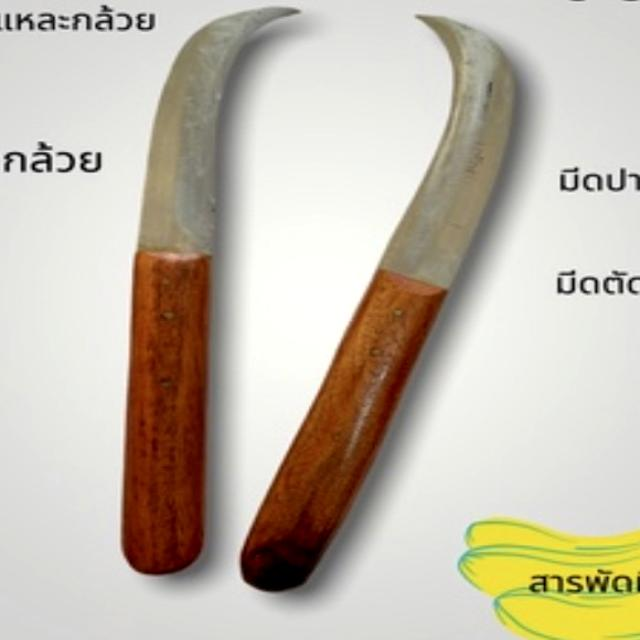knife: (95, 0, 534, 613)
